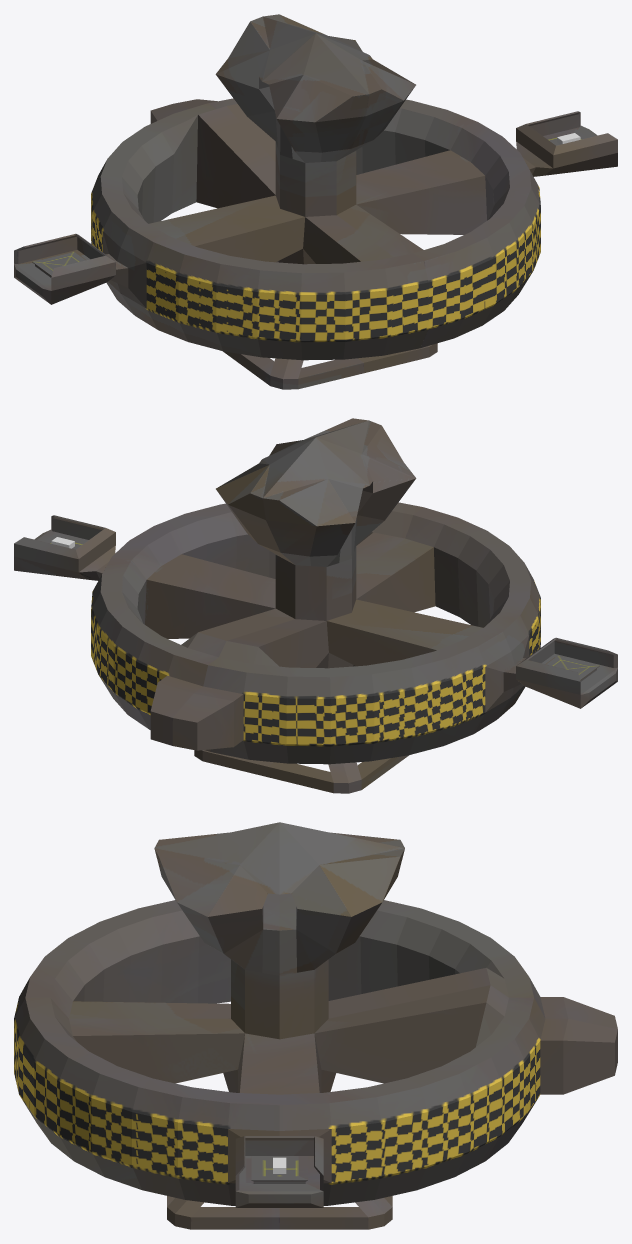
The model's file is Station_1.fbx.
3 renders of one model, top to bottom at view 1: azimuth 30°, elevation 25°; view 2: azimuth 150°, elevation 25°; view 3: azimuth 270°, elevation 25°, orthographic. The views are drawn at different scales.
Parts seen in each view (by area): view 1: Station_1; view 2: Station_1; view 3: Station_1.
Part boxes in pixels (x1=…): Station_1: x1=14, y1=14, x2=617, y2=389; Station_1: x1=14, y1=418, x2=617, y2=793; Station_1: x1=14, y1=822, x2=617, y2=1229.
Bounding box in the file's own units: 74064 × 37645 × 57310.
